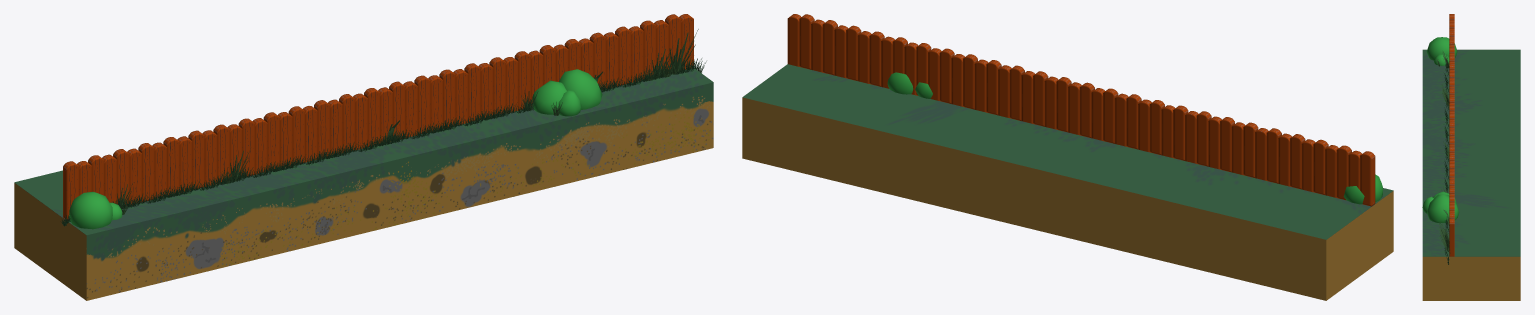
File: Ground.fbx
The picture shows the model from 3 angles, left to right: view 1: azimuth 30°, elevation 25°; view 2: azimuth 150°, elevation 25°; view 3: azimuth 270°, elevation 25°; orthographic projection. The views are drawn at different scales.
Visible parts, largest first — view 1: GroundCombined; view 2: GroundCombined; view 3: GroundCombined.
Boxes of the visible parts, <box> form: GroundCombined: <box>14,14,713,300</box>; GroundCombined: <box>742,14,1393,300</box>; GroundCombined: <box>1422,14,1520,300</box>.
Bounding box in the file's own units: 1031 × 184 × 201.
5 materials, 2 textured.
